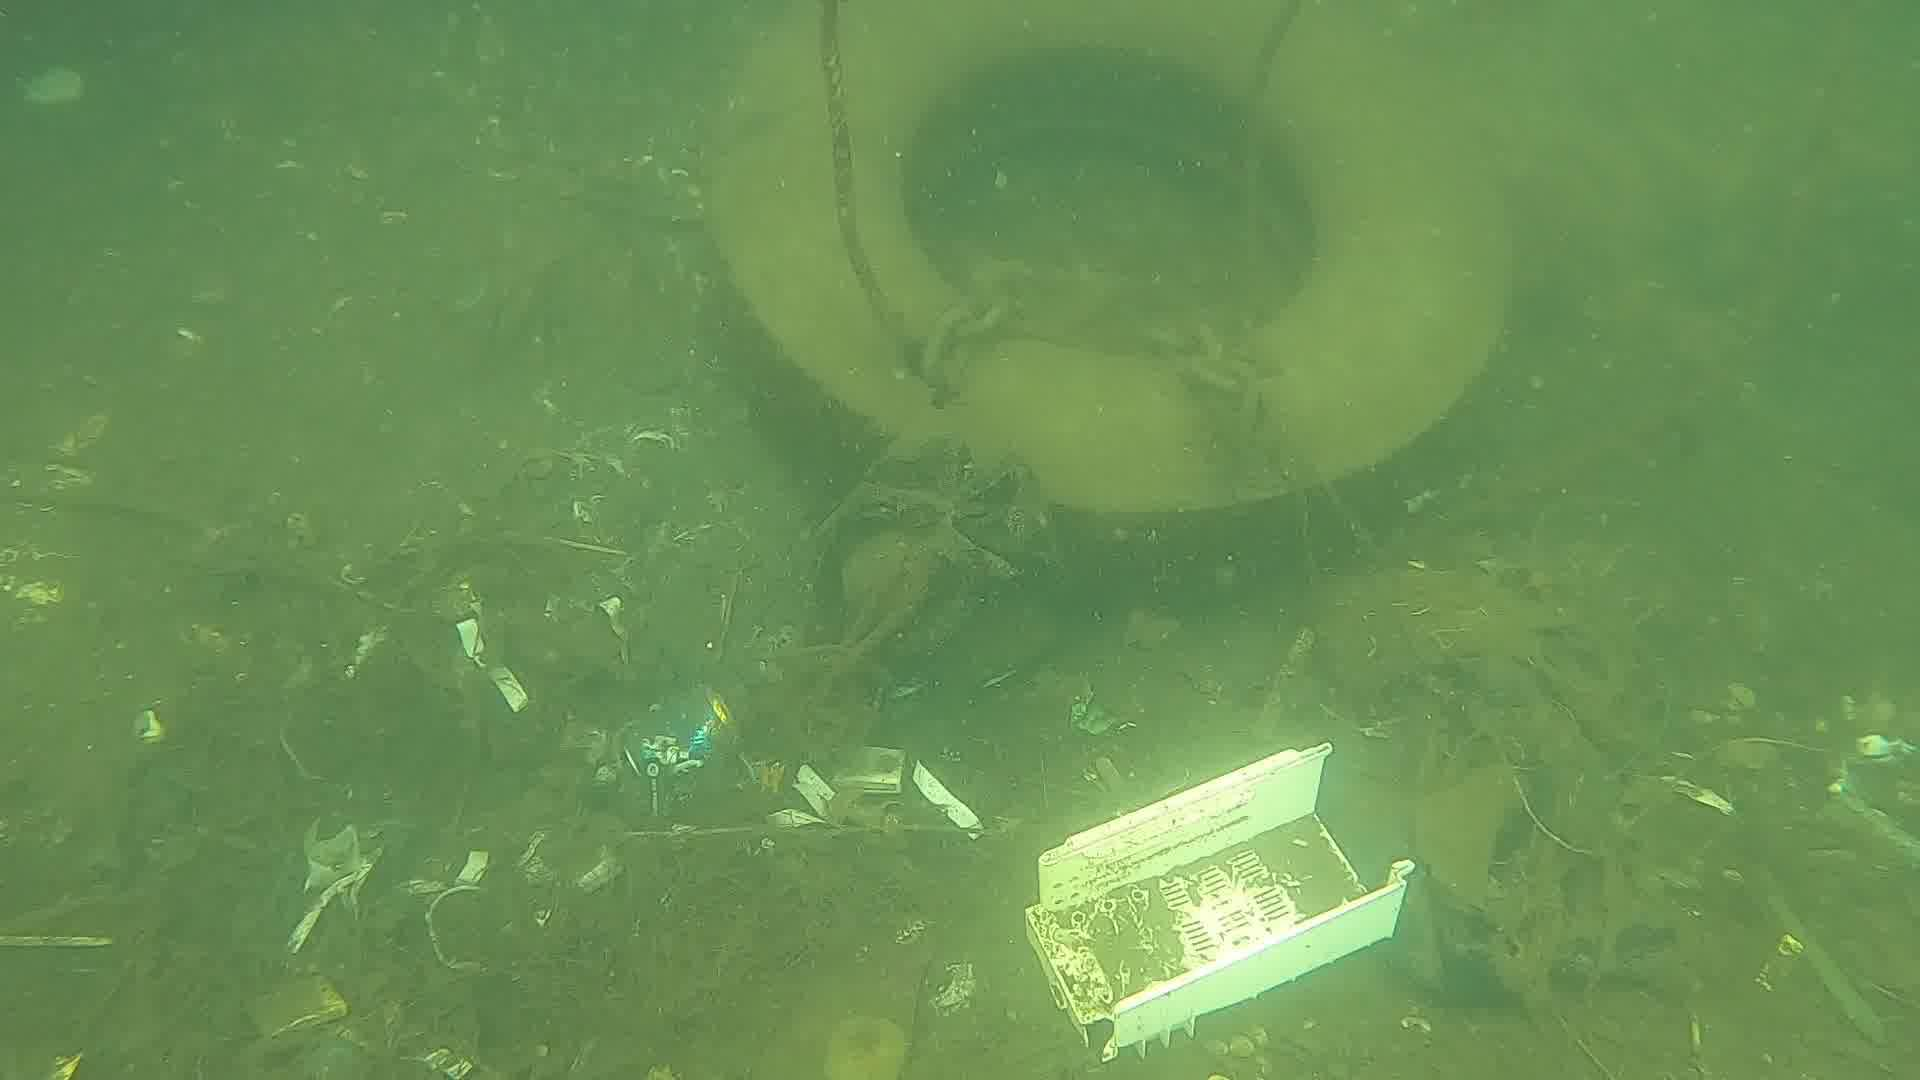rope: (814, 0, 918, 349)
tire: (686, 0, 1519, 589)
